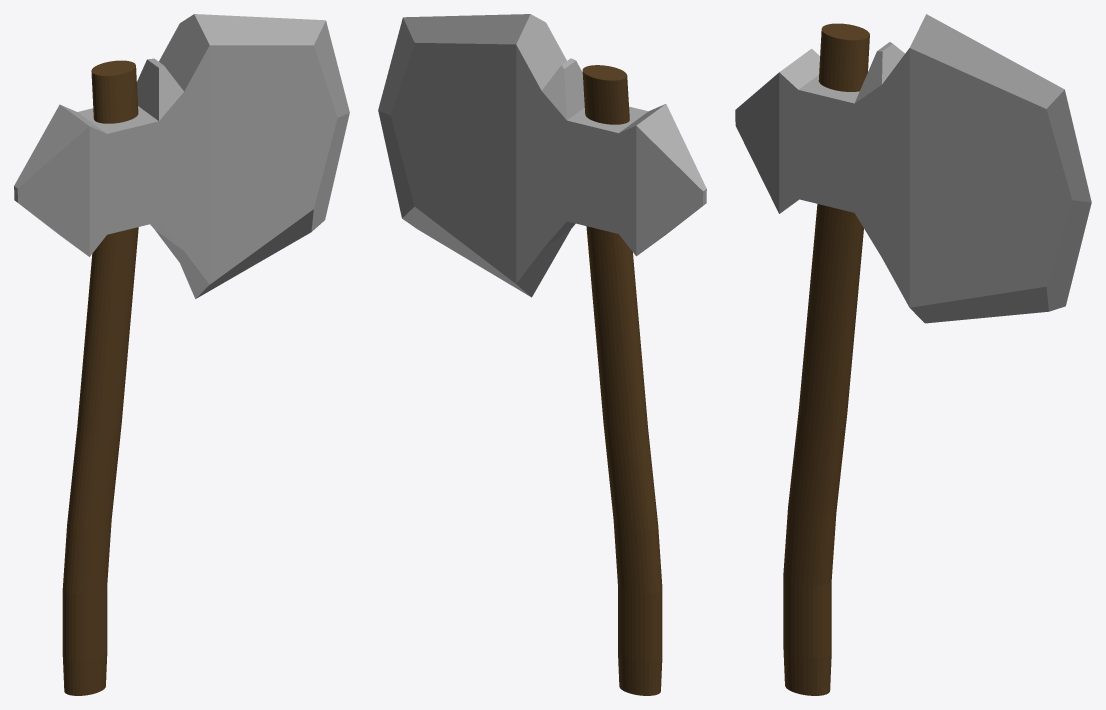
File: hacha.fbx
3 views of the same model, side by side, from view 1: azimuth 30°, elevation 25°; view 2: azimuth 150°, elevation 25°; view 3: azimuth 330°, elevation 25° (orthographic). The views are drawn at different scales.
Visible parts, largest first — view 1: Cylinder.002; view 2: Cylinder.002; view 3: Cylinder.002.
Part boxes in pixels (bbox=[...]): Cylinder.002: bbox=[14, 14, 349, 695]; Cylinder.002: bbox=[378, 14, 706, 695]; Cylinder.002: bbox=[735, 14, 1091, 695].
Bounding box in the file's own units: 4.08 × 7.65 × 0.6405.
